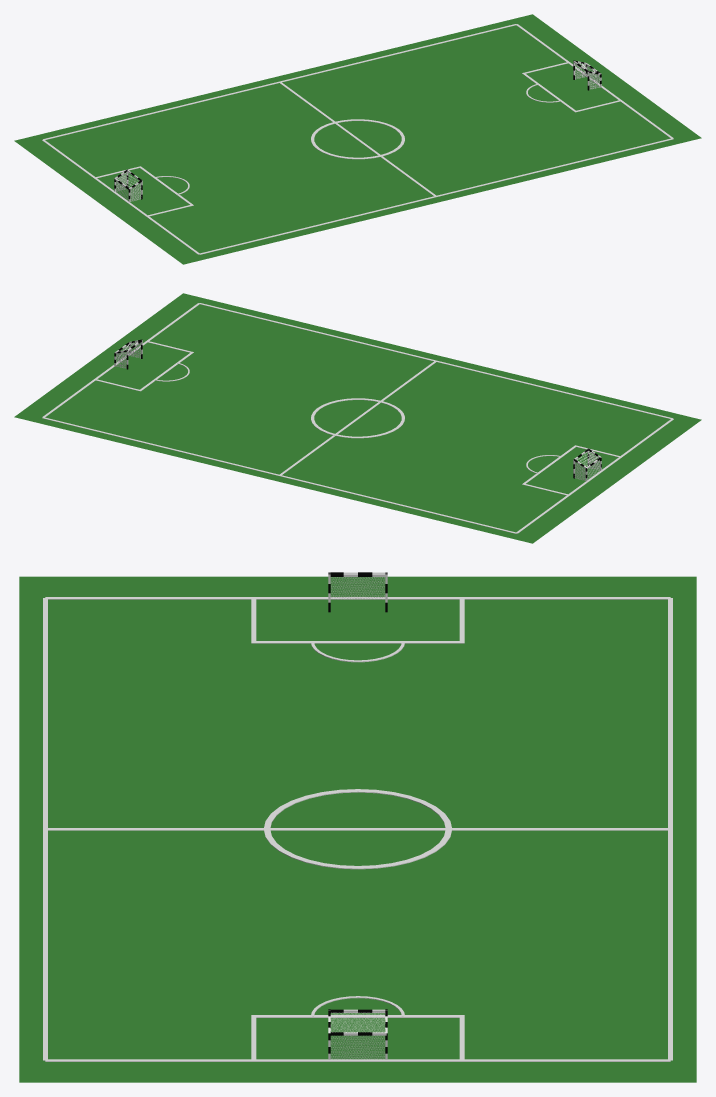
File: Football_Ground.fbx
3 views of the same model, one above another, from view 1: azimuth 30°, elevation 25°; view 2: azimuth 150°, elevation 25°; view 3: azimuth 270°, elevation 25° (orthographic). The views are drawn at different scales.
Parts seen in each view (by area): view 1: Plane, Cube.002, Cube.003, Cylinder.001, Cube.004, Cube.011, Cube.006; view 2: Plane, Cube.002, Cube.003, Cylinder.001, Cube.004, Cube.011, Cube.006; view 3: Plane, Cube.002, Cube.003, Cylinder.001, Cube.006, Cube.004, Cube.011, Plane.008, Plane.002, Plane.005.
Boxes of the visible parts, <box> form: Plane: <box>14,14,701,264</box>; Cube.002: <box>42,24,516,140</box>; Cube.003: <box>199,138,673,254</box>; Cylinder.001: <box>311,119,404,159</box>; Cube.004: <box>42,140,199,254</box>; Cube.011: <box>279,82,436,196</box>; Cube.006: <box>516,24,673,138</box>; Plane: <box>14,293,701,543</box>; Cube.002: <box>42,417,516,533</box>; Cube.003: <box>199,303,673,418</box>; Cylinder.001: <box>311,398,404,438</box>; Cube.004: <box>516,418,673,533</box>; Cube.011: <box>280,361,436,475</box>; Cube.006: <box>42,303,199,417</box>; Plane: <box>19,576,696,1082</box>; Cube.002: <box>668,598,672,1060</box>; Cube.003: <box>43,598,47,1060</box>; Cylinder.001: <box>263,789,452,869</box>; Cube.006: <box>45,1059,670,1061</box>; Cube.004: <box>45,597,670,599</box>; Cube.011: <box>45,828,667,830</box>; Plane.008: <box>331,1035,384,1059</box>; Plane.002: <box>331,577,384,599</box>; Plane.005: <box>330,1012,385,1032</box>.
Bounding box in the file's own units: 23000 × 816 × 13000.
